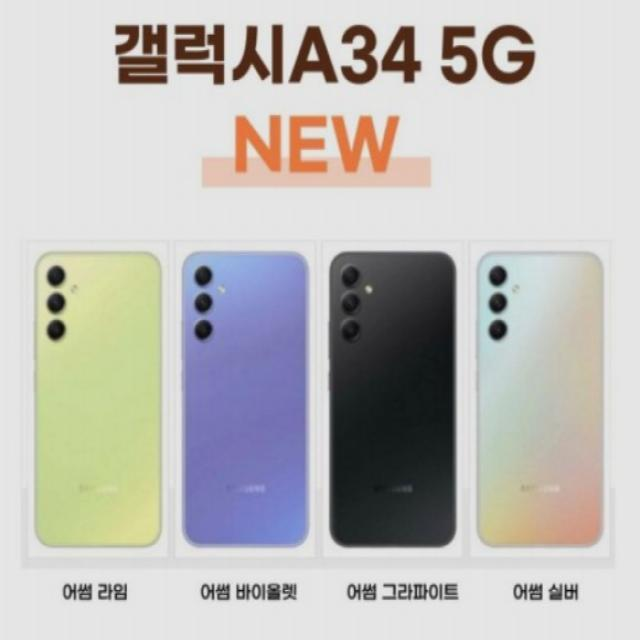phone: (31, 249, 163, 548), (181, 252, 310, 547), (477, 250, 605, 547), (329, 250, 457, 546)
